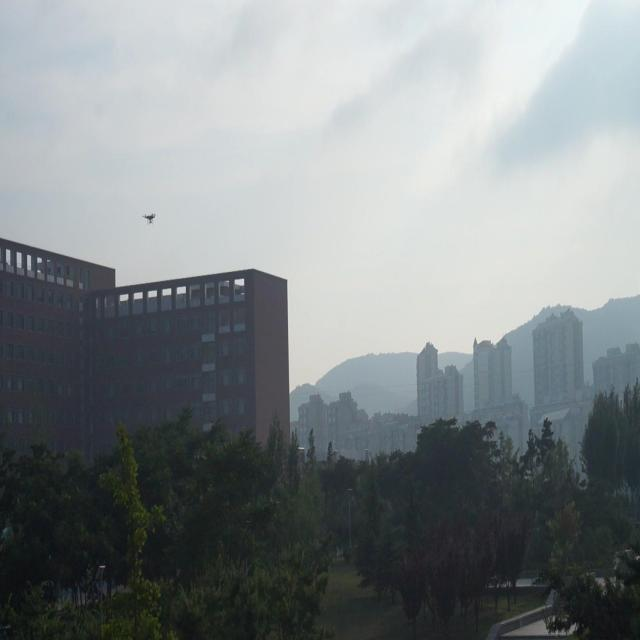UAV: (142, 212, 156, 225)
